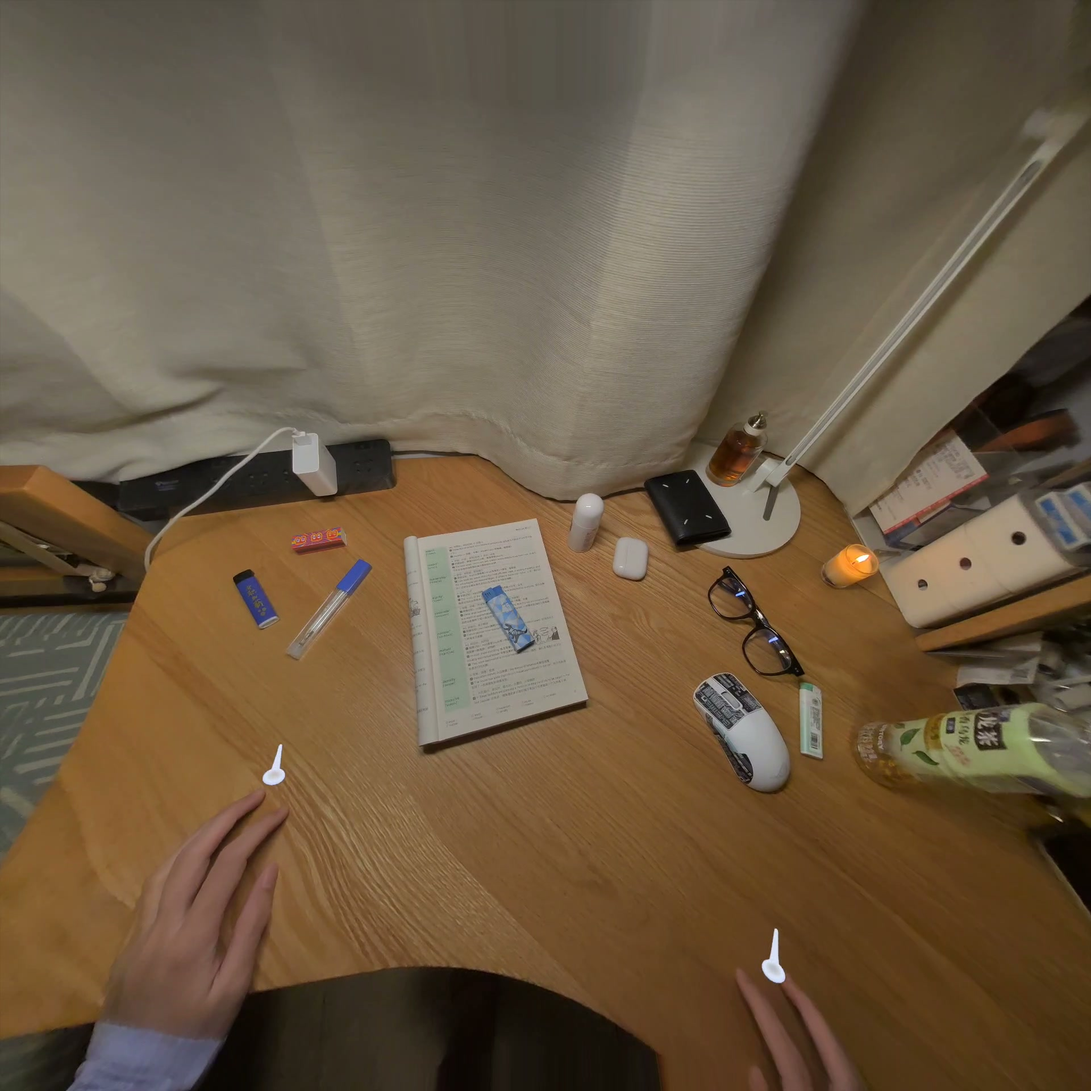lighter: (482, 586, 534, 652)
